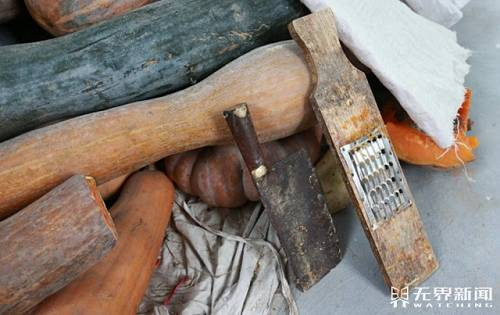knief: (209, 103, 347, 283)
